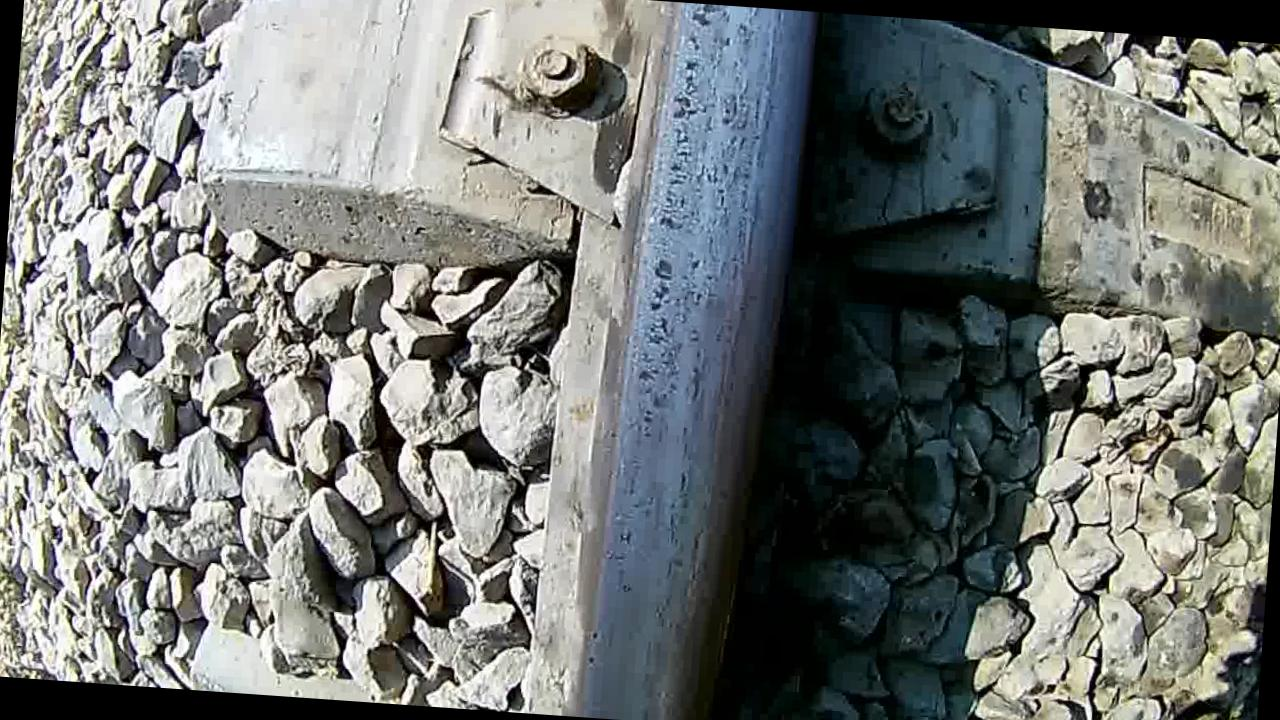crack: (569, 0, 813, 720)
